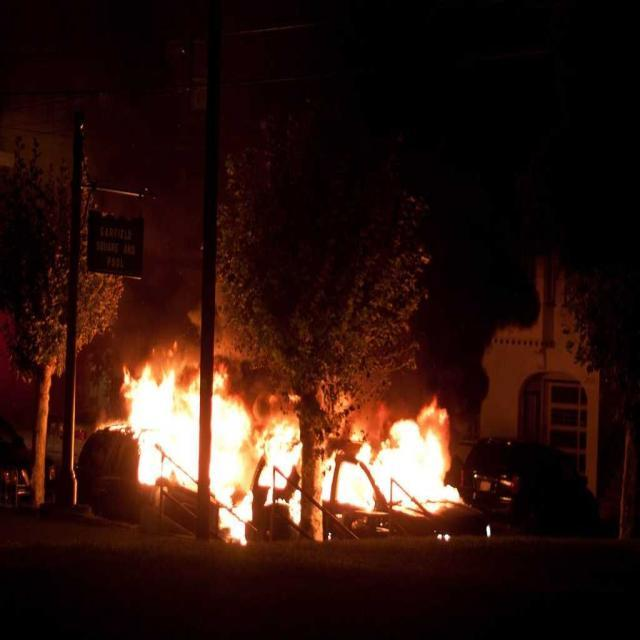Fire: (138, 383, 202, 476), (378, 434, 443, 490), (212, 408, 238, 490), (264, 426, 290, 486), (340, 468, 366, 506)
